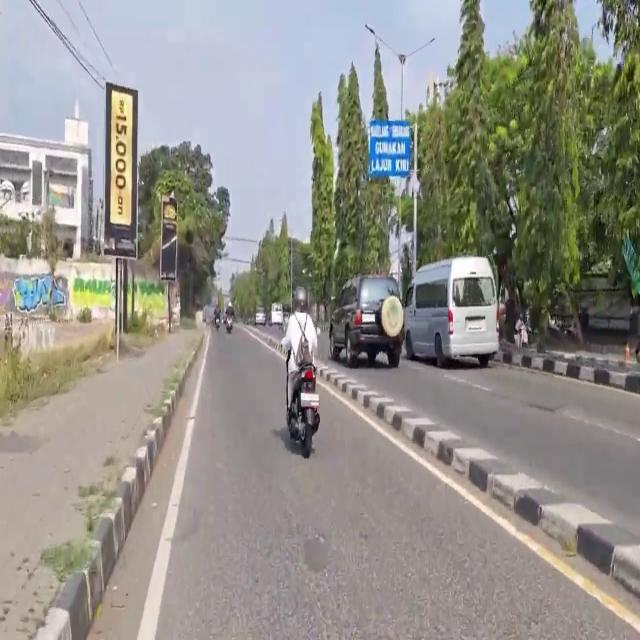WithHelmet: (280, 285, 320, 429), (224, 300, 234, 326), (213, 304, 221, 326)
